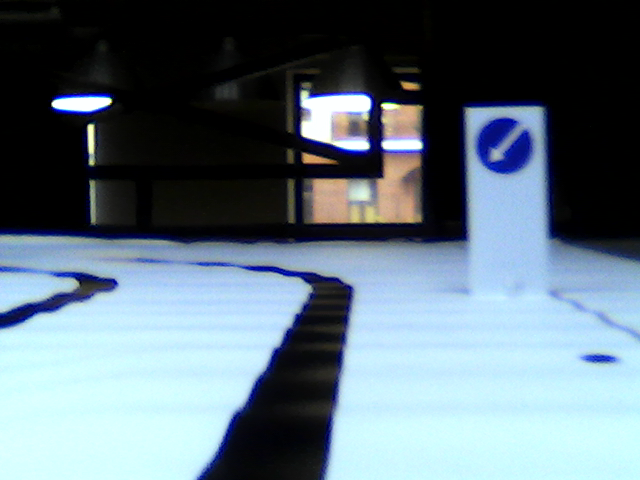prep: (474, 116, 534, 171)
